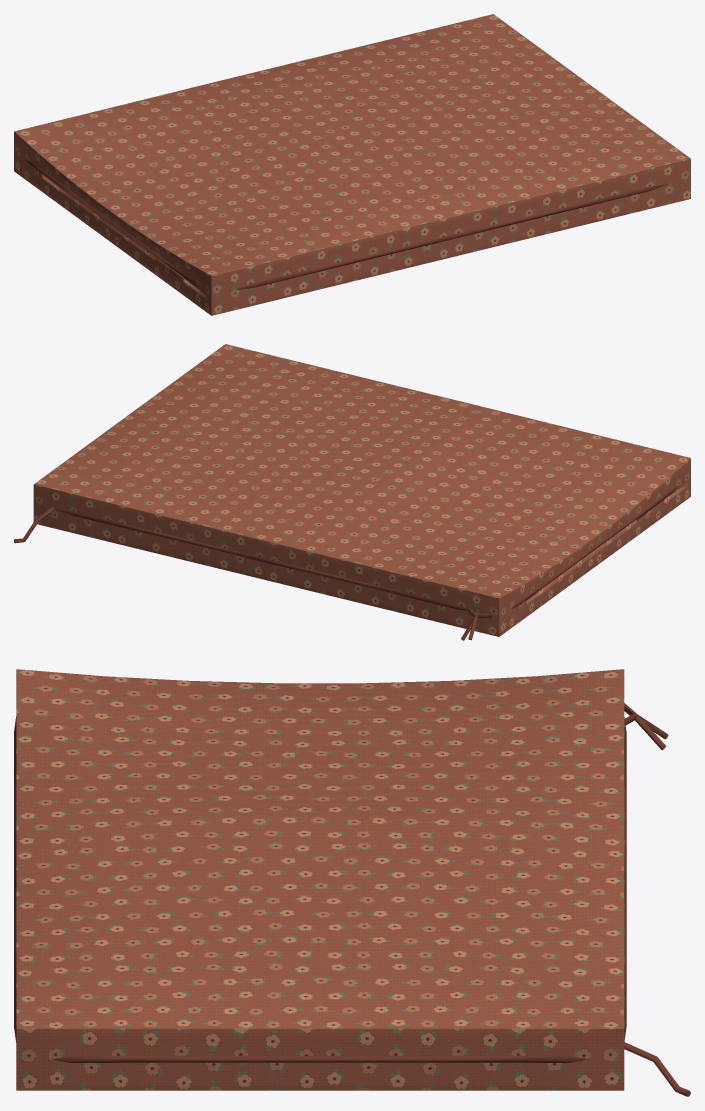
File: Salon_Dem_NgoiDai_GanTV.glb
The picture shows the model from 3 angles, top to bottom: view 1: azimuth 30°, elevation 25°; view 2: azimuth 150°, elevation 25°; view 3: azimuth 270°, elevation 25°; orthographic projection. The views are drawn at different scales.
Parts seen in each view (by area): view 1: geometry_0; view 2: geometry_0; view 3: geometry_0.
Boxes of the visible parts, <box> form: geometry_0: <box>14,14,690,315</box>; geometry_0: <box>14,344,690,640</box>; geometry_0: <box>14,669,690,1096</box>.
Size of the model in its own units: 0.772 by 0.0774 by 0.6101.
2 materials, 1 textured.
